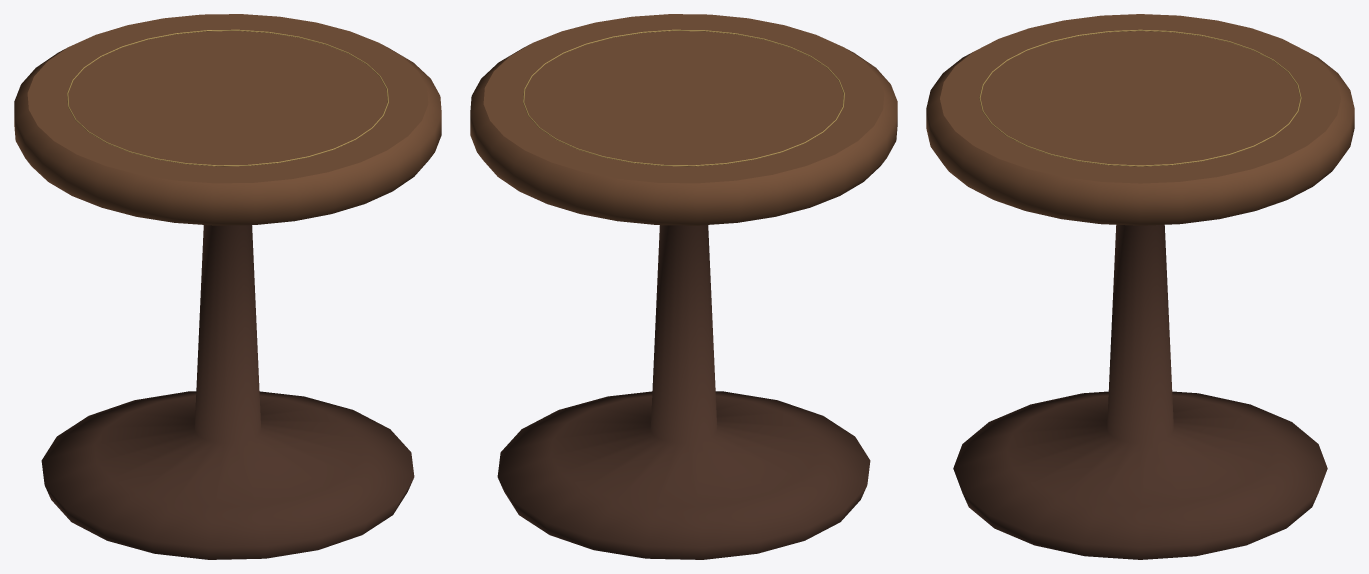
File: rpg-mansion-side-table-01.glb
3 views of the same model, side by side, from view 1: azimuth 30°, elevation 25°; view 2: azimuth 150°, elevation 25°; view 3: azimuth 270°, elevation 25° (orthographic).
Parts seen in each view (by area): view 1: rpg-mansion-side-table-01; view 2: rpg-mansion-side-table-01; view 3: rpg-mansion-side-table-01.
Part boxes in pixels (left/top/right/bottom): rpg-mansion-side-table-01: left=14, top=14, right=441, bottom=559; rpg-mansion-side-table-01: left=470, top=14, right=897, bottom=559; rpg-mansion-side-table-01: left=926, top=14, right=1354, bottom=559.
Size of the model in its own units: 0.64 by 0.637 by 0.64.
